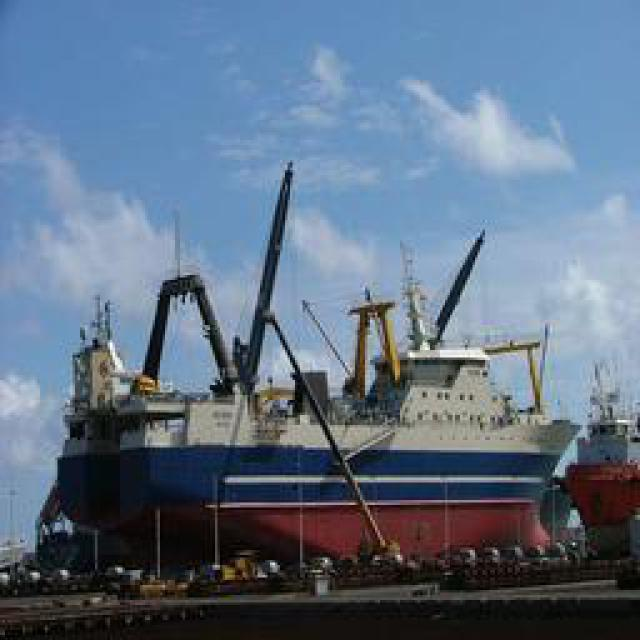Ship: (45, 163, 583, 568)
